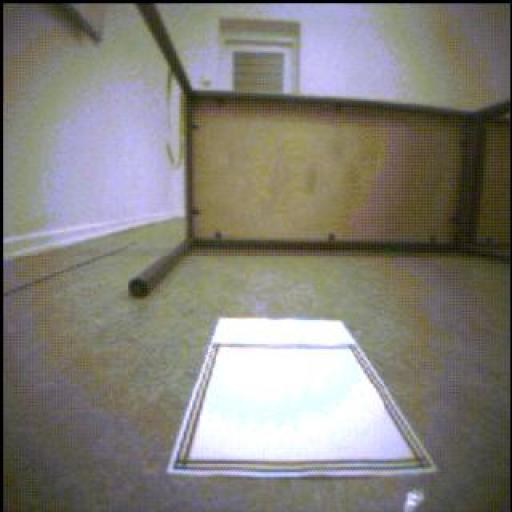Pad: (169, 310, 435, 484)
